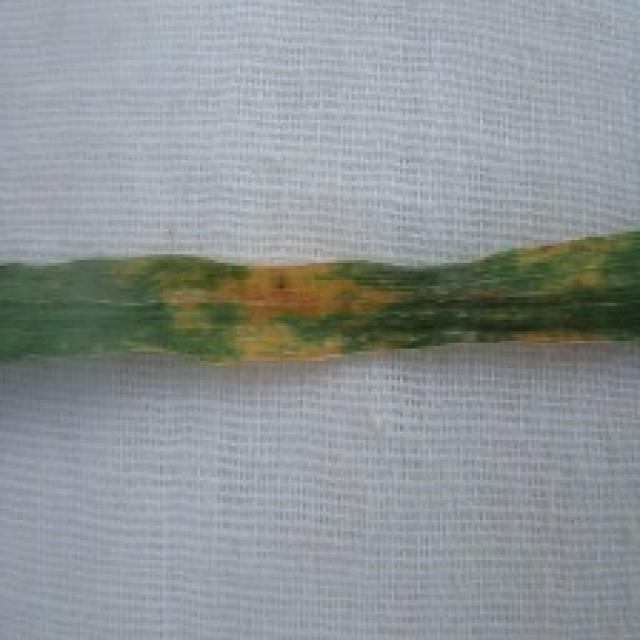Bacterial_Blight: (112, 254, 620, 360)
